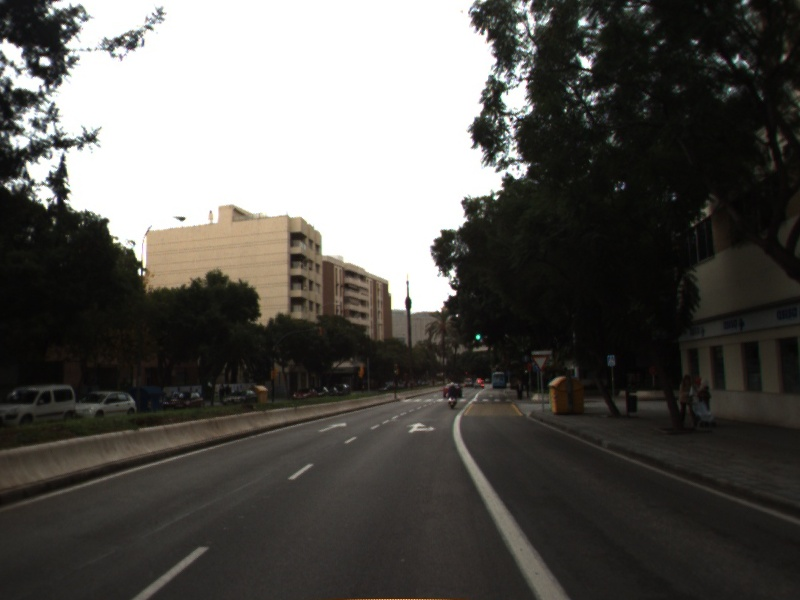STRAIGHT: (316, 420, 349, 434)
STRAIGHT_RIGHT: (404, 420, 438, 435)
